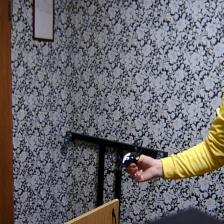drone: (108, 140, 146, 174)
